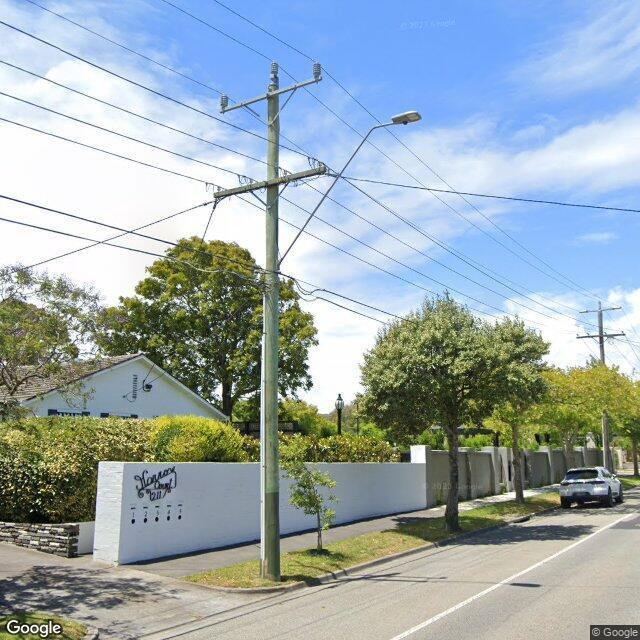HV-transmission: (221, 61, 320, 108), (579, 302, 621, 314)
crossarm: (219, 75, 322, 114), (214, 166, 326, 198), (576, 334, 626, 339), (588, 308, 612, 312)
streetlight: (277, 110, 423, 270)
timber-pole: (260, 83, 280, 582), (598, 307, 612, 473)
